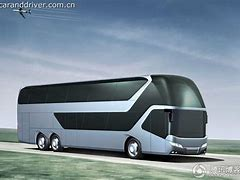bigcar: (8, 72, 214, 163)
